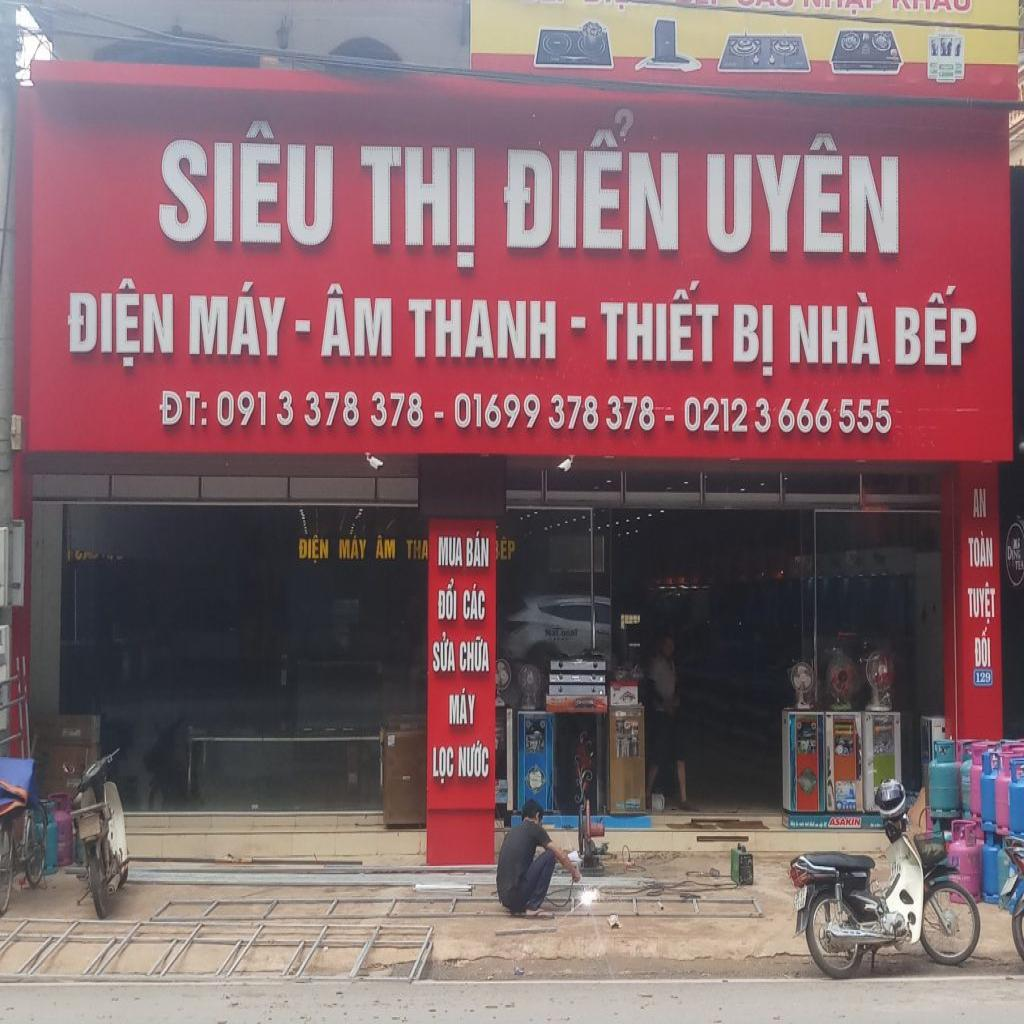text: (502, 102, 680, 253), (704, 125, 901, 256), (157, 113, 337, 248), (359, 142, 477, 271), (597, 278, 721, 366), (65, 276, 176, 369), (407, 297, 558, 362), (453, 390, 657, 434), (683, 395, 894, 436), (187, 279, 291, 360), (215, 390, 425, 430), (892, 280, 980, 370), (787, 288, 882, 368), (316, 280, 395, 361), (731, 302, 775, 380), (158, 389, 209, 429), (966, 579, 998, 626), (457, 738, 491, 780), (447, 685, 479, 727), (458, 635, 492, 674), (431, 629, 457, 676), (966, 530, 995, 569), (465, 528, 491, 570), (462, 582, 487, 624), (297, 534, 330, 565), (432, 745, 456, 786), (437, 534, 465, 569), (436, 578, 458, 622), (338, 534, 370, 562), (973, 625, 993, 669), (404, 536, 430, 562), (374, 534, 397, 562), (972, 486, 988, 520), (499, 534, 517, 562), (828, 817, 863, 828), (975, 671, 992, 685), (1006, 545, 1013, 562)
